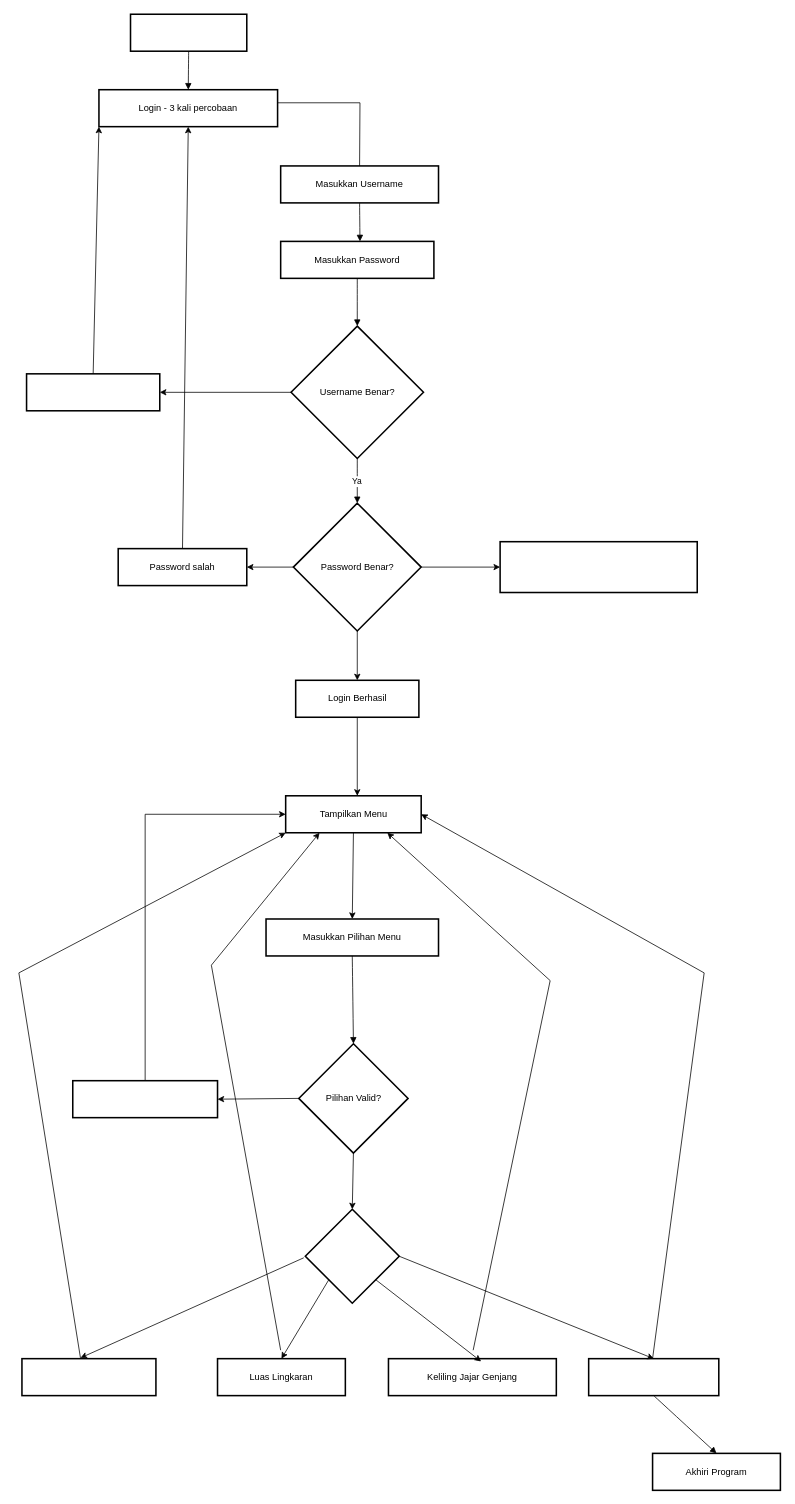
Some shapes in this 795 by 1504 pixel diagram are drawn without their labels. The box of each missing label's shape, as (x1, y1, x2, y2) in pixels:
Anda salah 3 kali - Program Berakhir: (499, 541, 698, 593)
Clear Screen: (129, 13, 247, 52)
Keliling Segitiga: (21, 1358, 156, 1396)
Keluar Program: (588, 1358, 719, 1396)
Pilih Menu: (304, 1208, 400, 1304)
Pilihan tidak valid: (72, 1080, 218, 1118)
Username salah: (25, 373, 160, 411)
